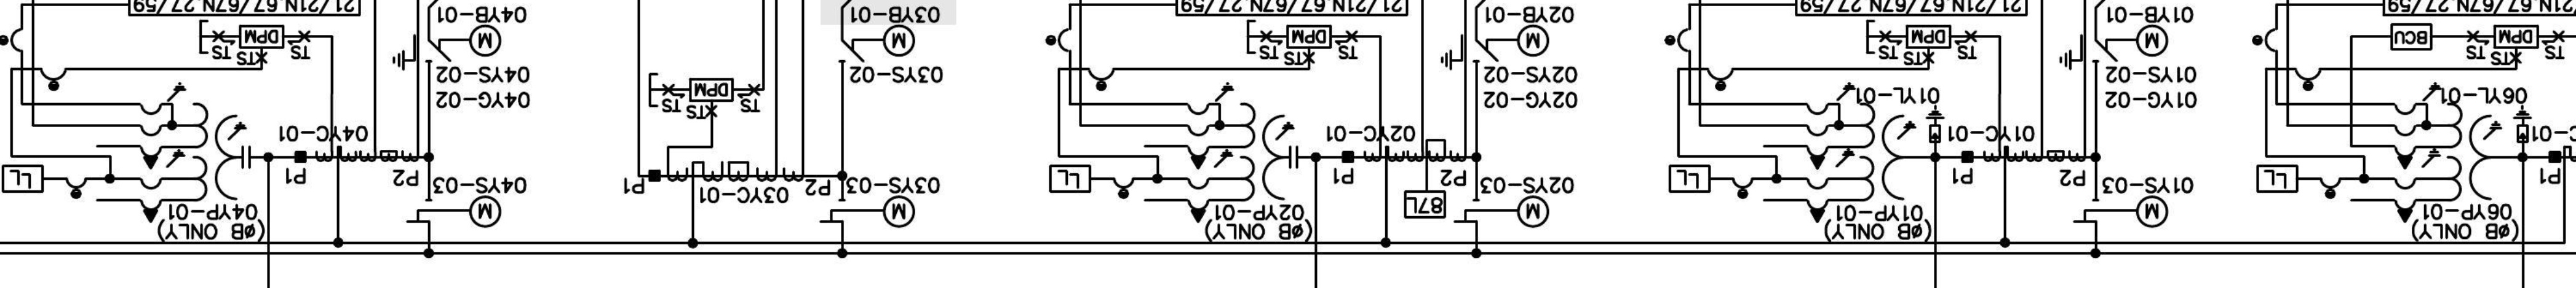115_1way_ds_w_motor: (805, 25, 915, 70), (2072, 195, 2170, 229), (1452, 195, 1551, 229), (818, 195, 917, 229), (406, 195, 503, 229)
115_3ways_ds_w_motor: (1439, 23, 1549, 70), (2058, 25, 2169, 70), (393, 25, 503, 70)
115_cvt_1p: (1184, 82, 1299, 224), (138, 82, 251, 224)
115_la: (2512, 105, 2533, 144), (1925, 105, 1945, 144)
115_vt_1p: (2392, 82, 2504, 224), (1805, 82, 1917, 224)
BCU: (2390, 23, 2433, 51)
DPM: (2494, 25, 2540, 49), (1906, 25, 1952, 49), (1286, 25, 1332, 49), (688, 77, 734, 101), (238, 25, 284, 49)
LL: (1667, 164, 1712, 193), (1048, 164, 1092, 193), (2256, 164, 2298, 193), (2, 164, 44, 193)
